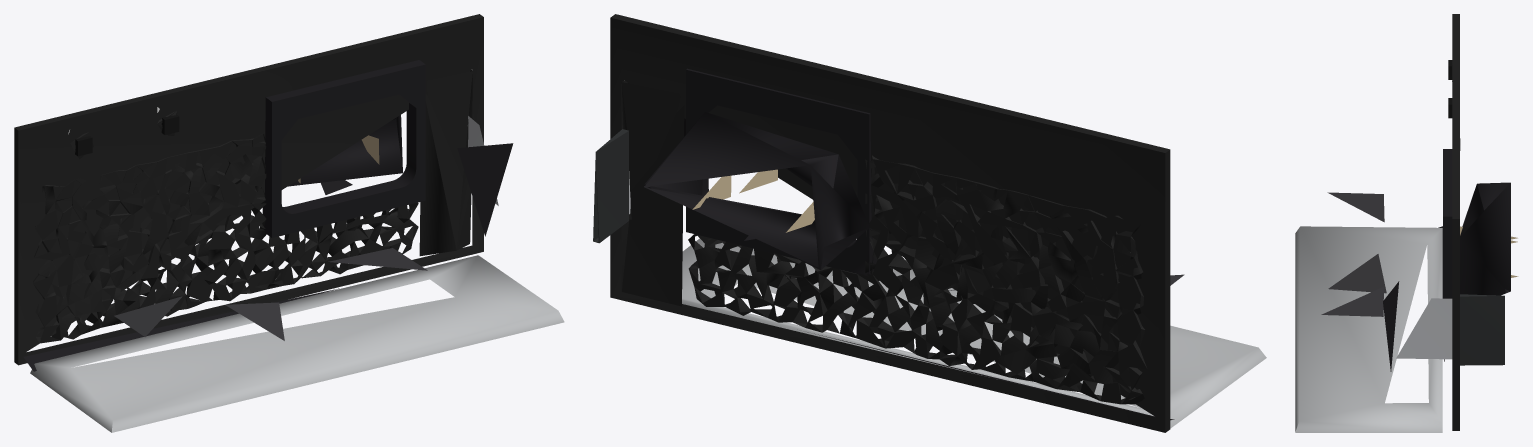
Rendered from PWR-C1-1100WAC-P.far.glb.
The picture shows the model from 3 angles, left to right: view 1: azimuth 30°, elevation 25°; view 2: azimuth 150°, elevation 25°; view 3: azimuth 270°, elevation 25°; orthographic projection. The views are drawn at different scales.
Visible parts, largest first — view 1: Body_far; view 2: Body_far; view 3: Body_far.
Part boxes in pixels (left/top/right/bottom): Body_far: left=14, top=14, right=564, bottom=432; Body_far: left=593, top=14, right=1266, bottom=432; Body_far: left=1295, top=14, right=1518, bottom=432.
Size of the model in its own units: 0.083 by 0.0409 by 0.0383.
2 materials, 1 textured.
